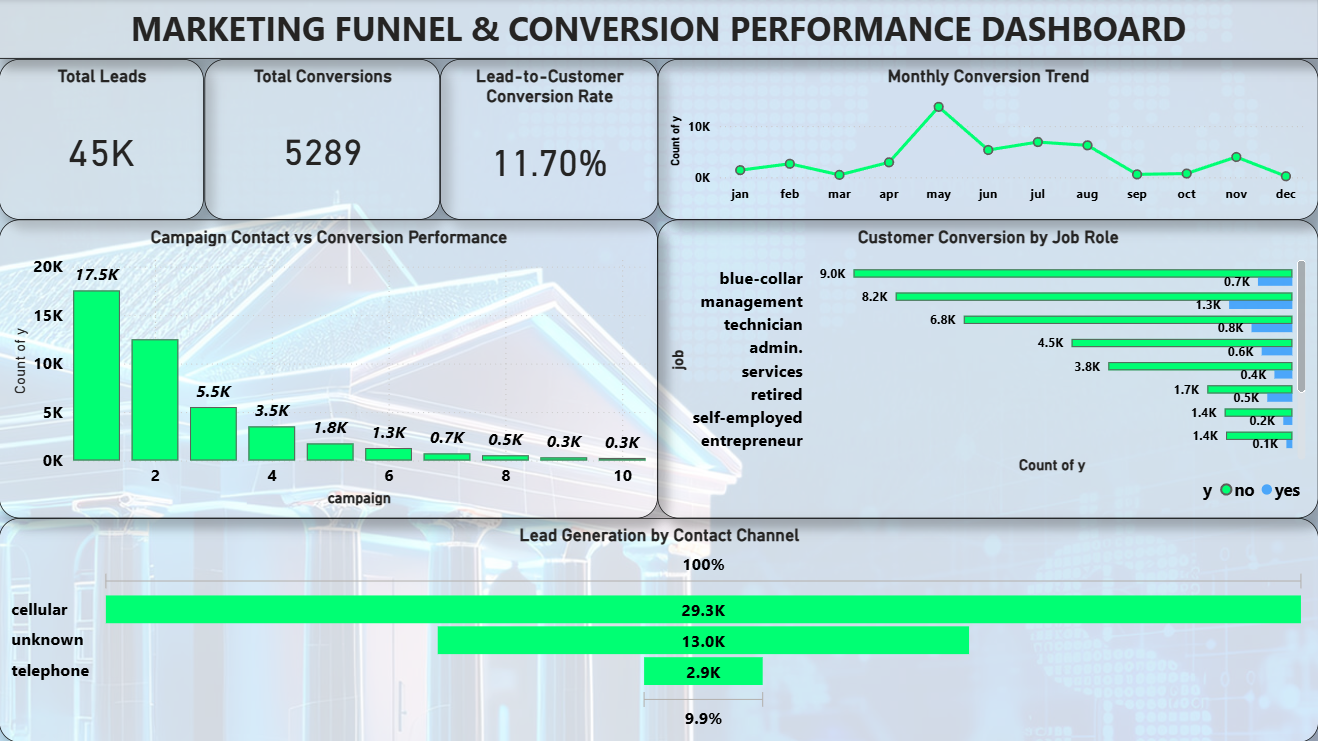

This screenshot's page, from the dashboard's own definition file:
{"tool":"powerbi","page":{"name":"Page 1","canvas":[1280,720],"ordinal":0},"visuals":[{"type":"card","title":"Total Leads","fields":{"Values":["bank-full.Total Leads"]},"box":[0,58,198.8,155.7],"z":0},{"type":"card","title":"Total Conversions","fields":{"Values":["bank-full.Converted Customers"]},"box":[198.8,58,228.6,155.7],"z":1000},{"type":"card","title":"Lead-to-Customer Conversion Rate","fields":{"Values":["bank-full.Conversion Rate"]},"box":[427.4,58,212,155.7],"z":2000},{"type":"funnel","title":"Lead Generation by Contact Channel","fields":{"Category":["bank-full.contact"],"Y":["CountNonNull(bank-full.y)"]},"box":[-0.2,503.6,1280.4,217.9],"z":3000},{"type":"clusteredBarChart","title":"Customer Conversion by Job Role","fields":{"Series":["bank-full.y"],"Category":["bank-full.job"],"Y":["CountNonNull(bank-full.y)"]},"box":[639.4,213.7,641.1,289.9],"z":4000},{"type":"columnChart","title":"Campaign Contact vs Conversion Performance","fields":{"Category":["bank-full.campaign"],"Y":["CountNonNull(bank-full.y)"]},"box":[0,213.7,639.4,289.9],"z":5000},{"type":"lineChart","title":"Monthly Conversion Trend","fields":{"Y":["CountNonNull(bank-full.y)"],"Category":["MonthTable.month"]},"box":[639.4,58,641.1,155.7],"z":6000},{"type":"textbox","box":[0,0,1280.5,58],"z":7000}]}

Visuals, with their boxes in screenshot pixels (x1, y1, x2, y2), scaled from the page's 1280x720 canvas onto the 1318x741 screenshot:
"Total Leads" card: detection(0, 60, 205, 220)
"Total Conversions" card: detection(205, 60, 440, 220)
"Lead-to-Customer Conversion Rate" card: detection(440, 60, 658, 220)
"Lead Generation by Contact Channel" funnel: detection(0, 518, 1317, 740)
"Customer Conversion by Job Role" clusteredBarChart: detection(658, 220, 1317, 518)
"Campaign Contact vs Conversion Performance" columnChart: detection(0, 220, 658, 518)
"Monthly Conversion Trend" lineChart: detection(658, 60, 1317, 220)
textbox: detection(0, 0, 1317, 60)
